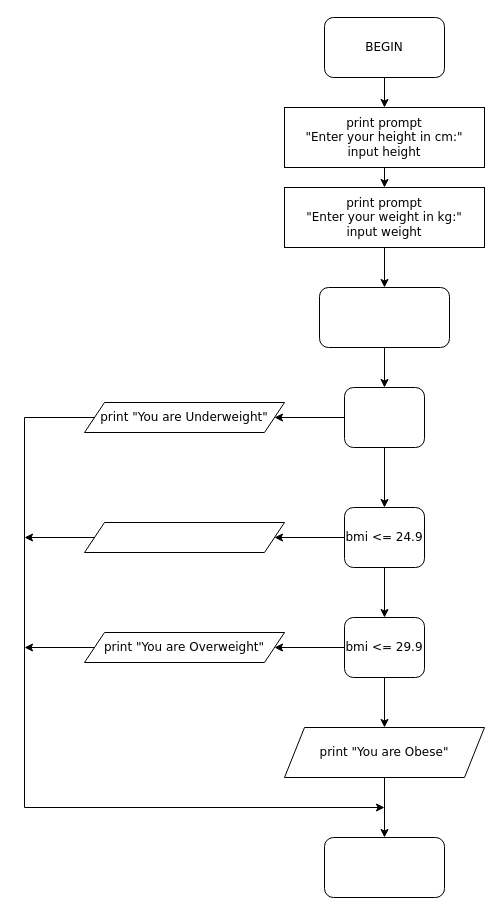
Image size: 502x915. Some labels were removed from this diagram. Each missing label, with the centre of its shape:
bmi < 18.5: (384,417)
bmi = weight / (height / 100) ** 2: (384,317)
END: (384,867)
print "You are at Normal Weight": (184,537)
